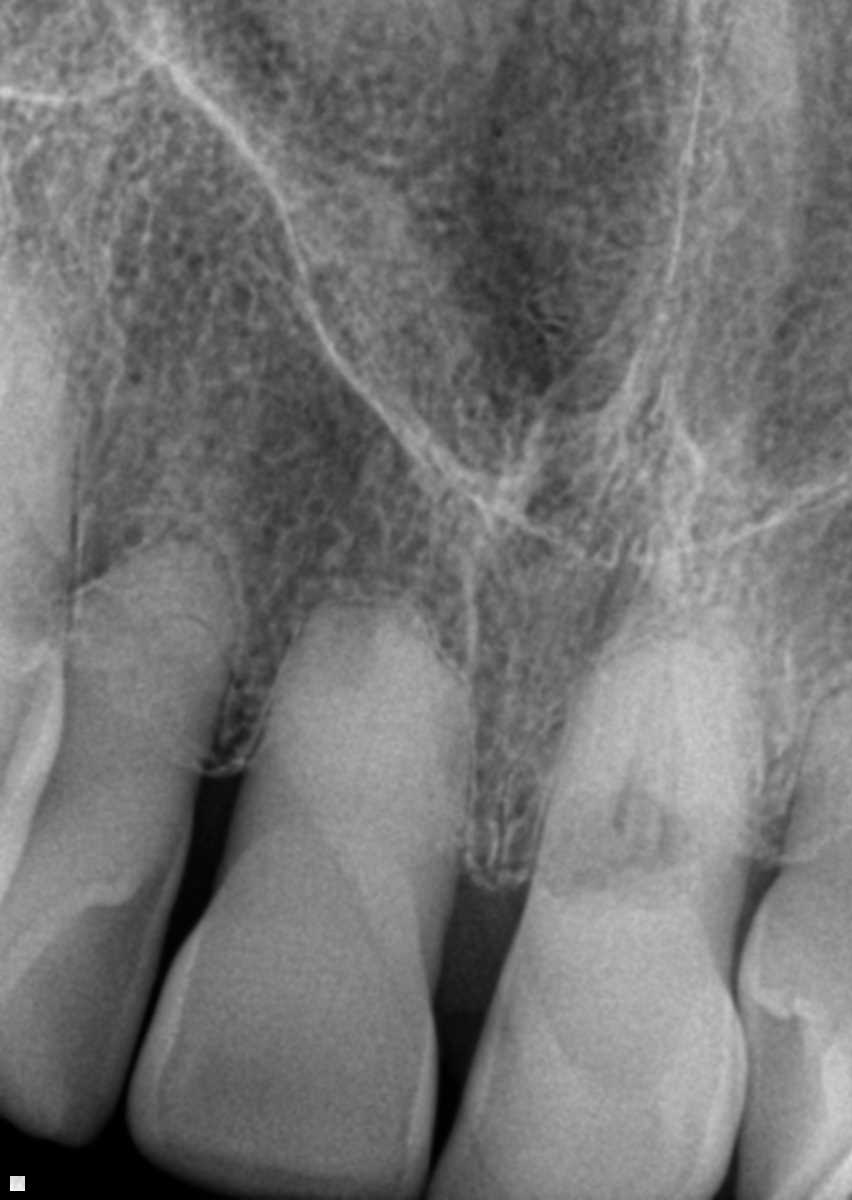Apical Lesion: (59, 504, 254, 585)
Main Canal: (617, 664, 678, 844)
Main Root: (536, 624, 760, 889), (249, 592, 483, 839), (24, 543, 241, 783), (777, 681, 852, 890)
